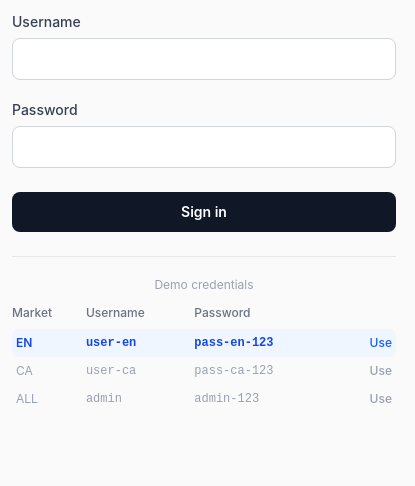
Test: Login flow — integration › displays error message when action returns an error
Type "bad-user" into the field labelled "Username" at (204, 59), box [12,38,396,80]
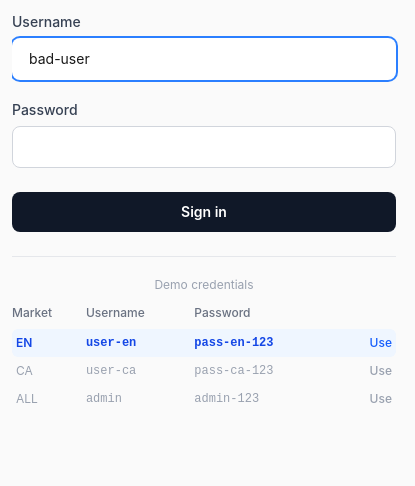
Type "bad-pass" into the password field labelled "Password" at (204, 147), box [12,126,396,168]
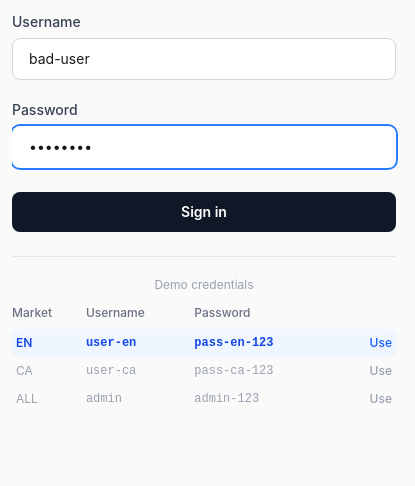
Click the button "Sign in" at (204, 212), box [12,192,396,232]
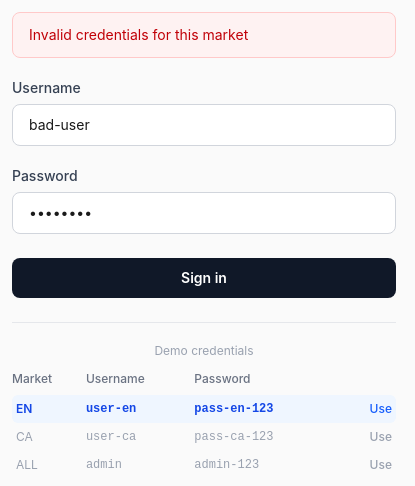
Check: the message reads "Invalid credentials for this market", box [29,26,248,43]
